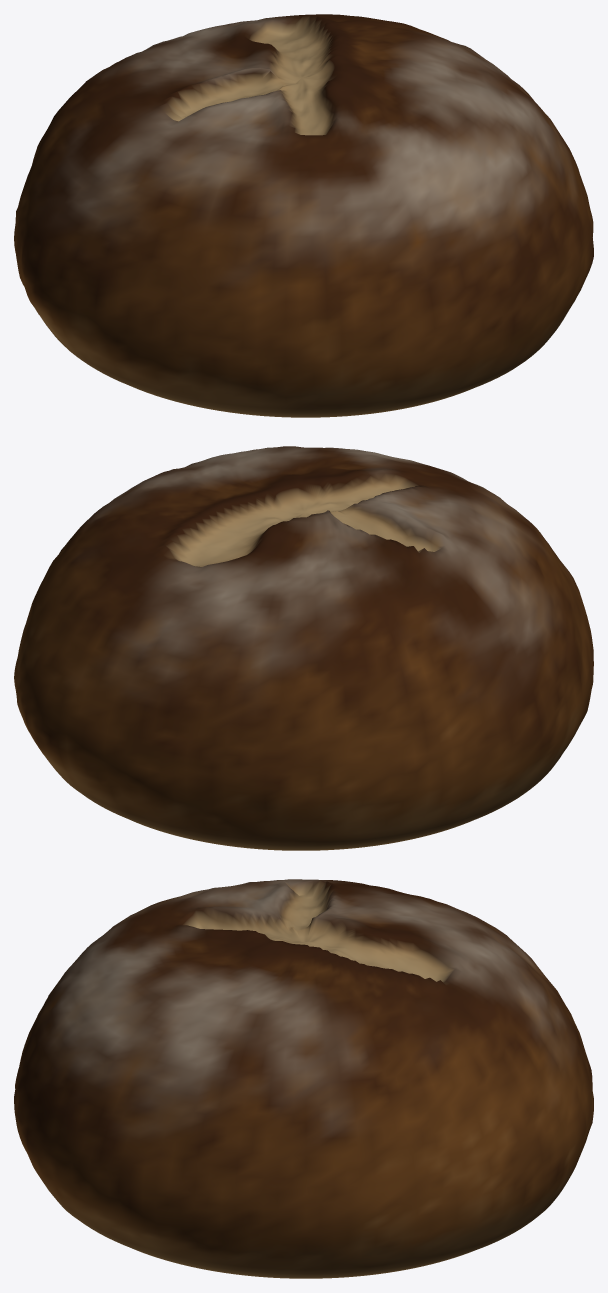
File: holzluken-500g.glb
3 renders of one model, top to bottom at view 1: azimuth 30°, elevation 25°; view 2: azimuth 150°, elevation 25°; view 3: azimuth 270°, elevation 25°, orthographic.
Visible parts, largest first — view 1: holzluken-500g; view 2: holzluken-500g; view 3: holzluken-500g.
Part boxes in pixels (x1,y1,x2,y2): holzluken-500g: (14,14,593,417); holzluken-500g: (14,446,593,850); holzluken-500g: (14,879,593,1278).
Size of the model in its own units: 0.18 by 0.085 by 0.18.
